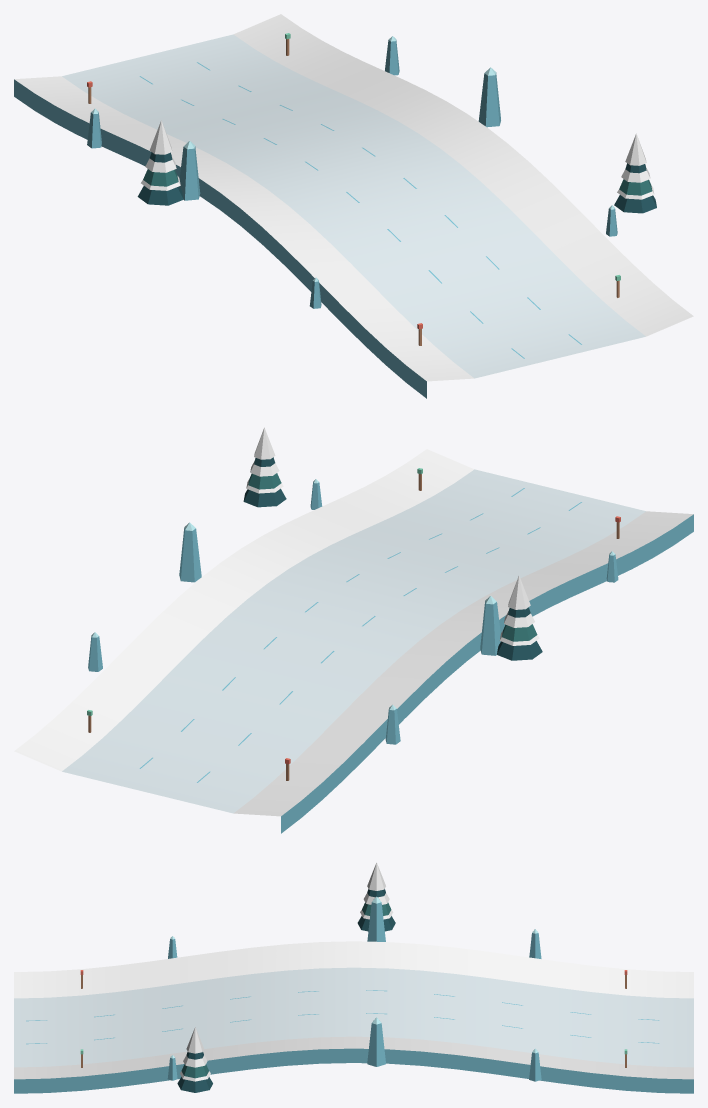
The model's file is slope.glb.
3 views of the same model, one above another, from view 1: azimuth 30°, elevation 25°; view 2: azimuth 150°, elevation 25°; view 3: azimuth 270°, elevation 25° (orthographic). The views are drawn at different scales.
Visible parts, largest first — view 1: Tile_slope; view 2: Tile_slope; view 3: Tile_slope.
Boxes of the visible parts, left/top/right/bottom form: Tile_slope: left=14, top=14, right=693, bottom=398; Tile_slope: left=14, top=427, right=693, bottom=833; Tile_slope: left=14, top=862, right=693, bottom=1093.
Bounding box in the file's own units: 16.89 × 5.17 × 30.
